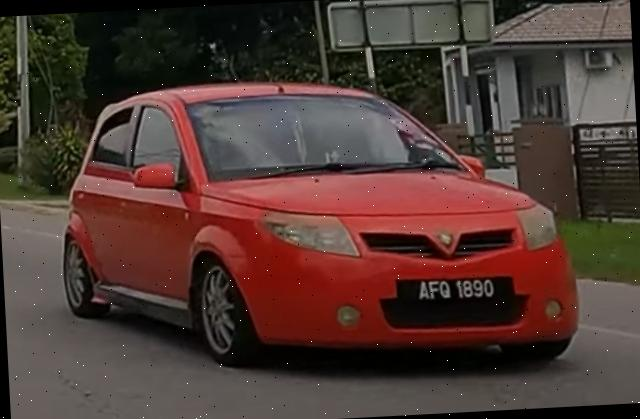License_Plate: (397, 273, 502, 307)
car: (52, 63, 583, 385)
